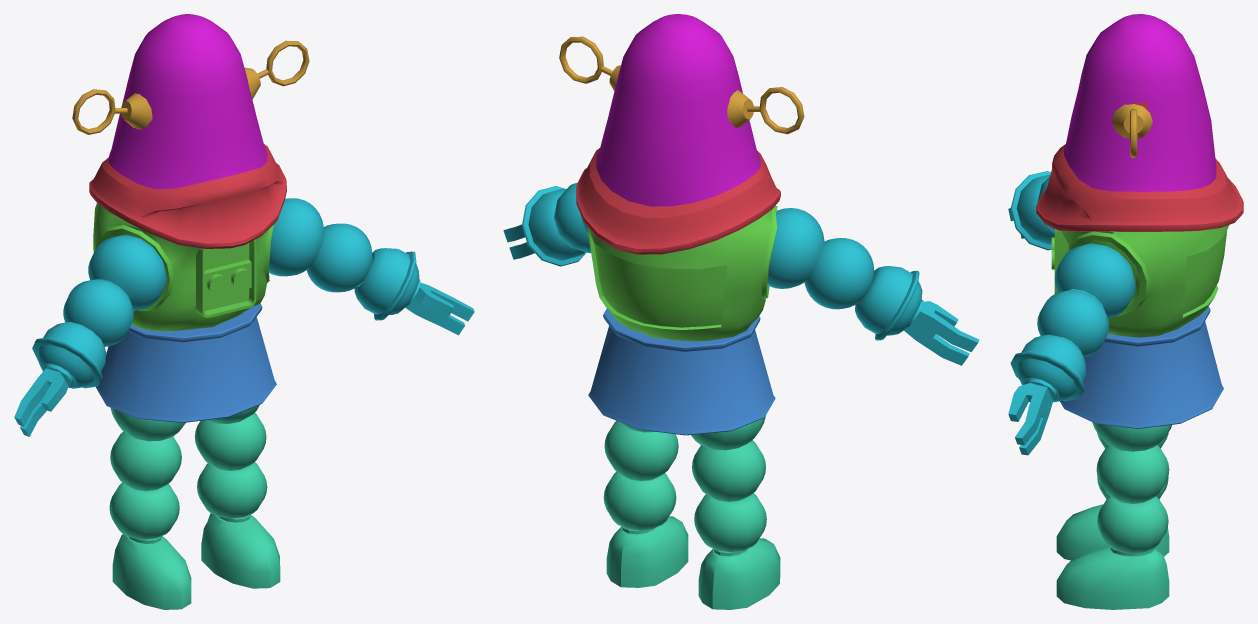
The model's file is RobbyRoboUnity.fbx.
The picture shows the model from 3 angles, left to right: view 1: azimuth 30°, elevation 25°; view 2: azimuth 150°, elevation 25°; view 3: azimuth 270°, elevation 25°; orthographic projection. The views are drawn at different scales.
Visible parts, largest first — view 1: RoboRobbie; view 2: RoboRobbie; view 3: RoboRobbie.
Boxes of the visible parts, left/top/right/bottom form: RoboRobbie: left=14, top=14, right=474, bottom=609; RoboRobbie: left=503, top=14, right=979, bottom=609; RoboRobbie: left=1008, top=14, right=1243, bottom=609.
Bounding box in the file's own units: 87.97 × 100 × 38.49.
